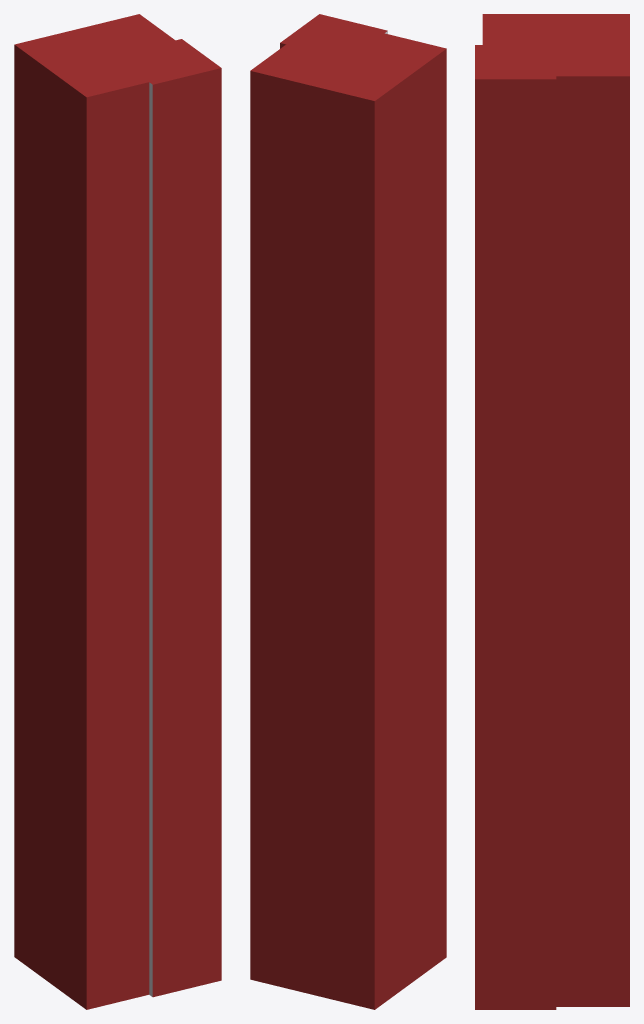
The model's file is Asian_Prop_Building_Modular_Corner_Column_Ornate_01.FBX.
The picture shows the model from 3 angles, left to right: view 1: azimuth 30°, elevation 25°; view 2: azimuth 150°, elevation 25°; view 3: azimuth 270°, elevation 25°; orthographic projection. The views are drawn at different scales.
Parts seen in each view (by area): view 1: Asian_Prop_Building_Modular_Corner_Column_Ornate_01; view 2: Asian_Prop_Building_Modular_Corner_Column_Ornate_01; view 3: Asian_Prop_Building_Modular_Corner_Column_Ornate_01.
Part boxes in pixels (left/top/right/bottom): Asian_Prop_Building_Modular_Corner_Column_Ornate_01: left=14, top=14, right=221, bottom=1009; Asian_Prop_Building_Modular_Corner_Column_Ornate_01: left=250, top=14, right=446, bottom=1009; Asian_Prop_Building_Modular_Corner_Column_Ornate_01: left=475, top=14, right=629, bottom=1009.
Size of the model in its own units: 525 by 3485 by 525.
